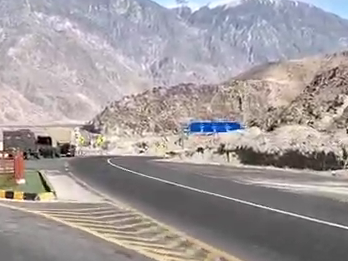stright: (71, 132, 213, 199)
